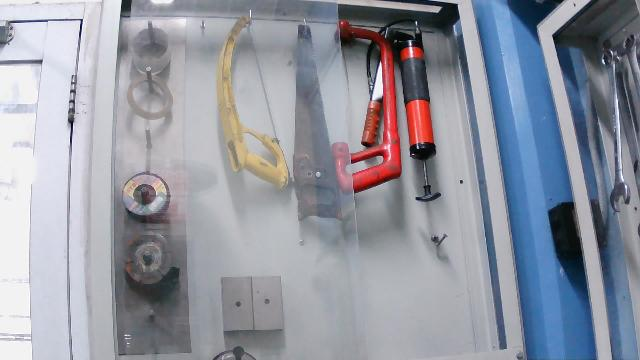gergaji_besi: (331, 15, 402, 196)
